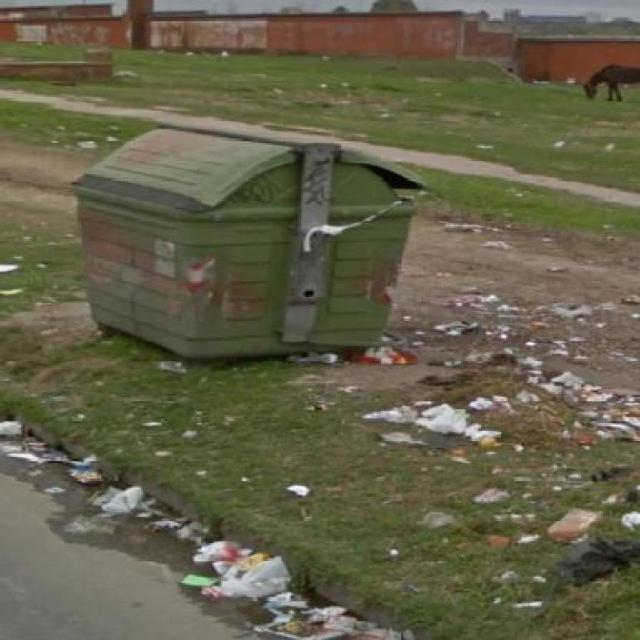garbage: (133, 541, 381, 640), (9, 422, 186, 536), (454, 314, 634, 416), (371, 391, 514, 471), (557, 482, 640, 590), (337, 343, 436, 388)
